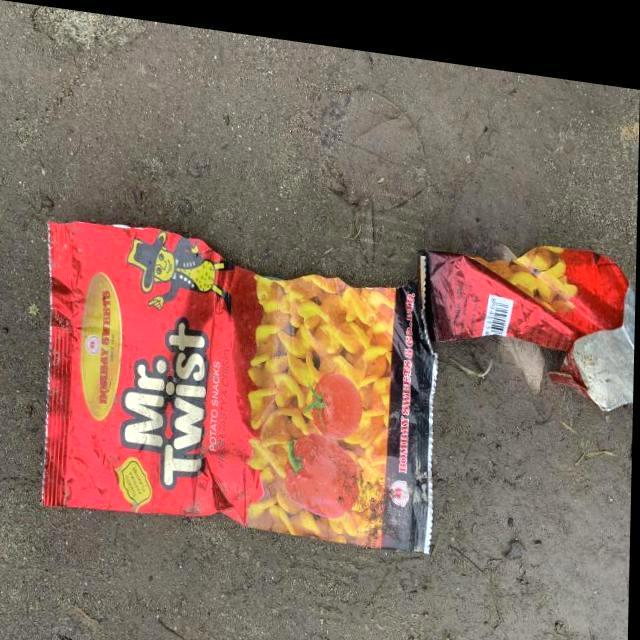packet: (27, 174, 638, 571)
